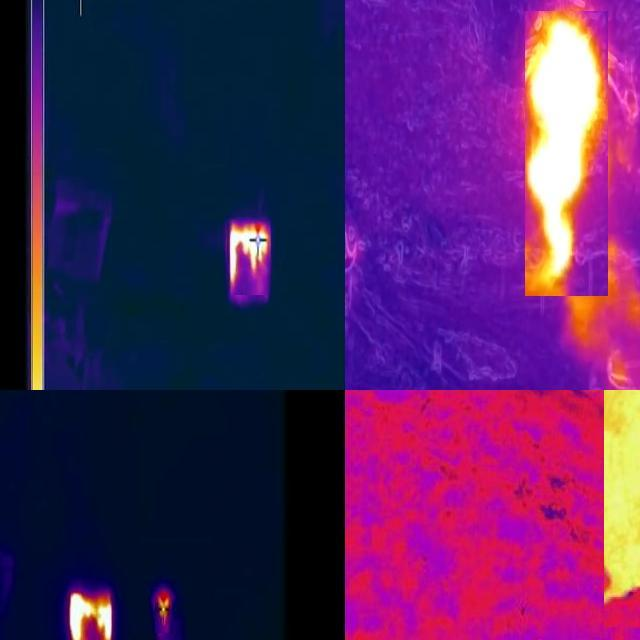fire: (525, 11, 608, 296), (227, 219, 271, 295), (65, 588, 115, 640), (155, 589, 172, 633)
